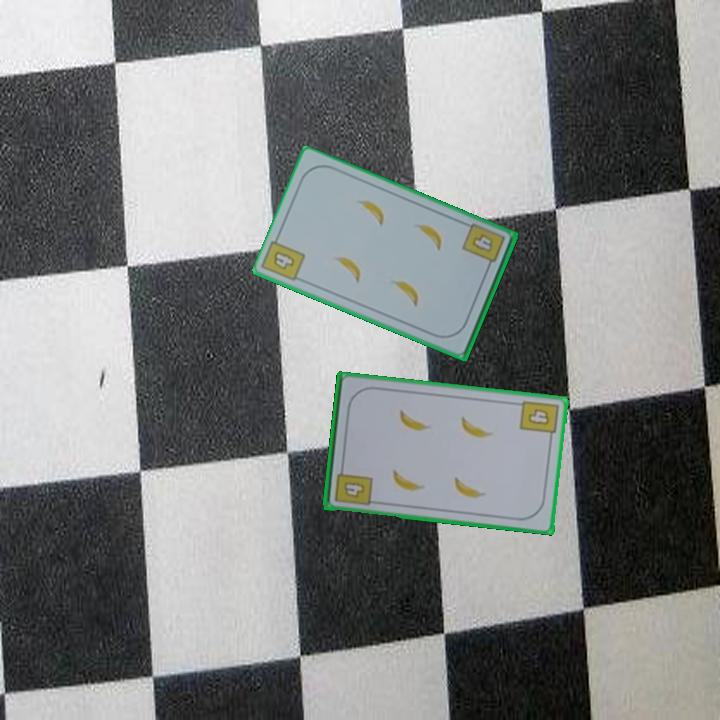4b: (459, 220, 508, 273), (516, 397, 561, 443), (331, 462, 375, 508), (269, 248, 298, 273)
